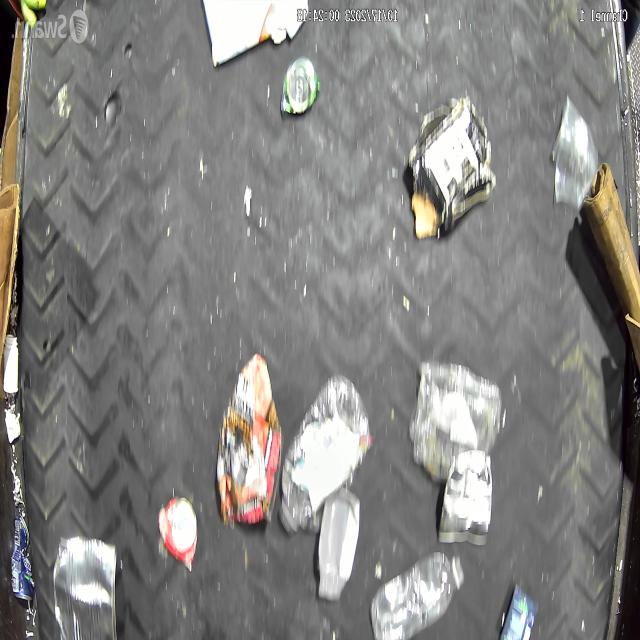can: (53, 535, 117, 640), (438, 450, 492, 546), (158, 492, 200, 571), (281, 56, 317, 118), (11, 514, 35, 602)
plastic_bottle: (280, 373, 372, 530), (411, 360, 506, 476), (368, 549, 466, 640)
